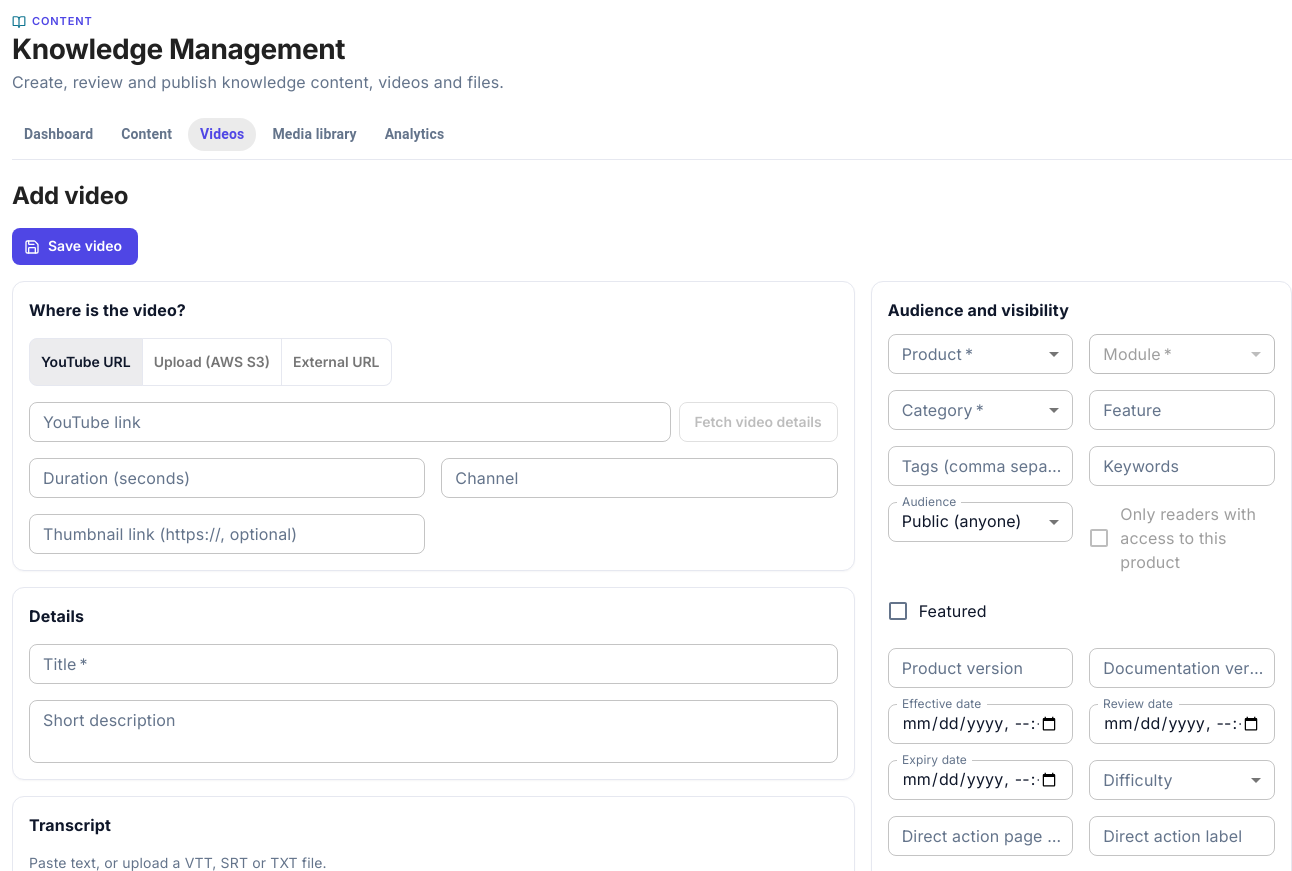
Knowledge Management › fetches YouTube details with the oEmbed fallback and says storage is off for uploads
The image size is (1292, 871).
Type "https://youtu.be/dQw4w9WgXcQ" into the field labelled "YouTube link" at (350, 422), box [29,402,670,442]
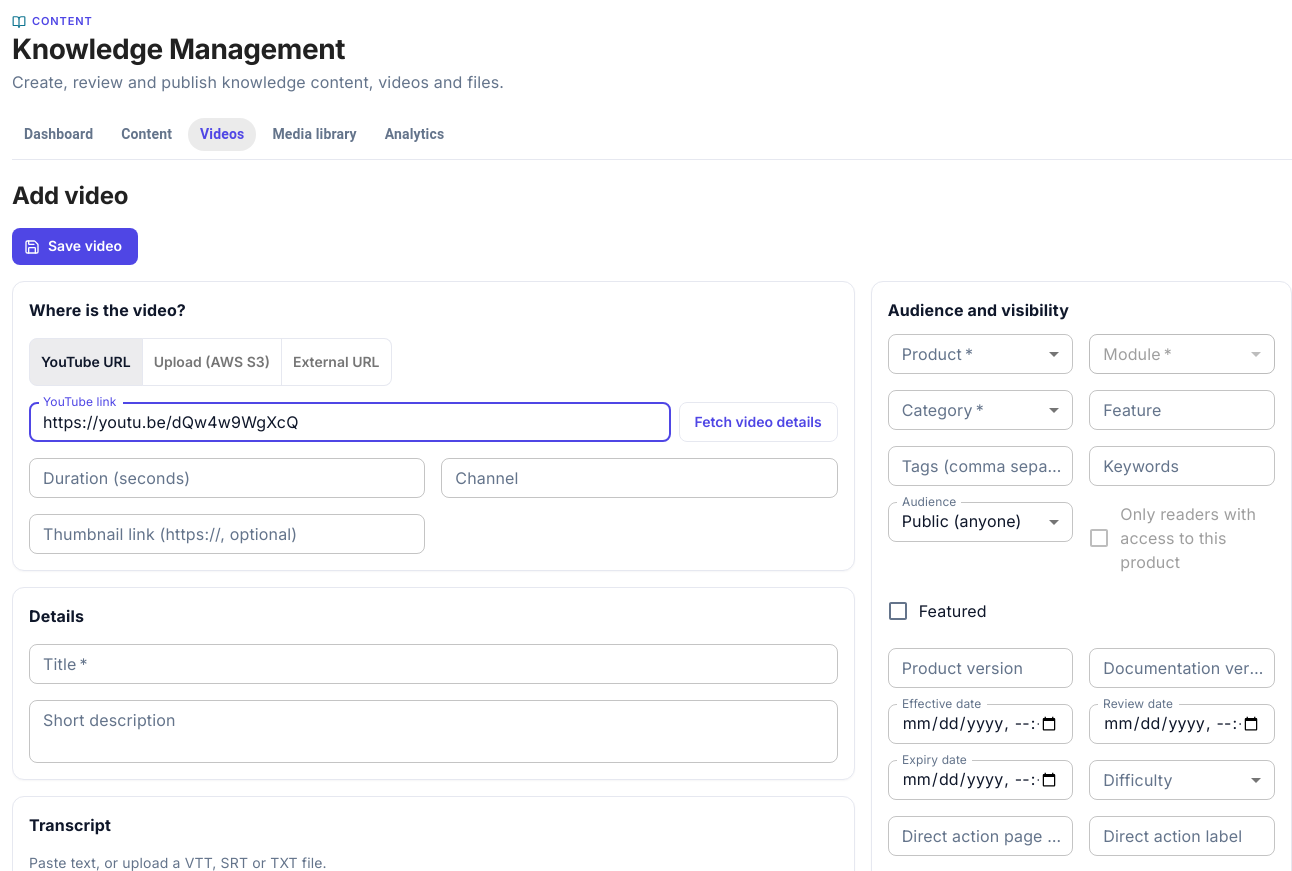
Click the button "Fetch video details" at (758, 422), box [678,402,838,442]
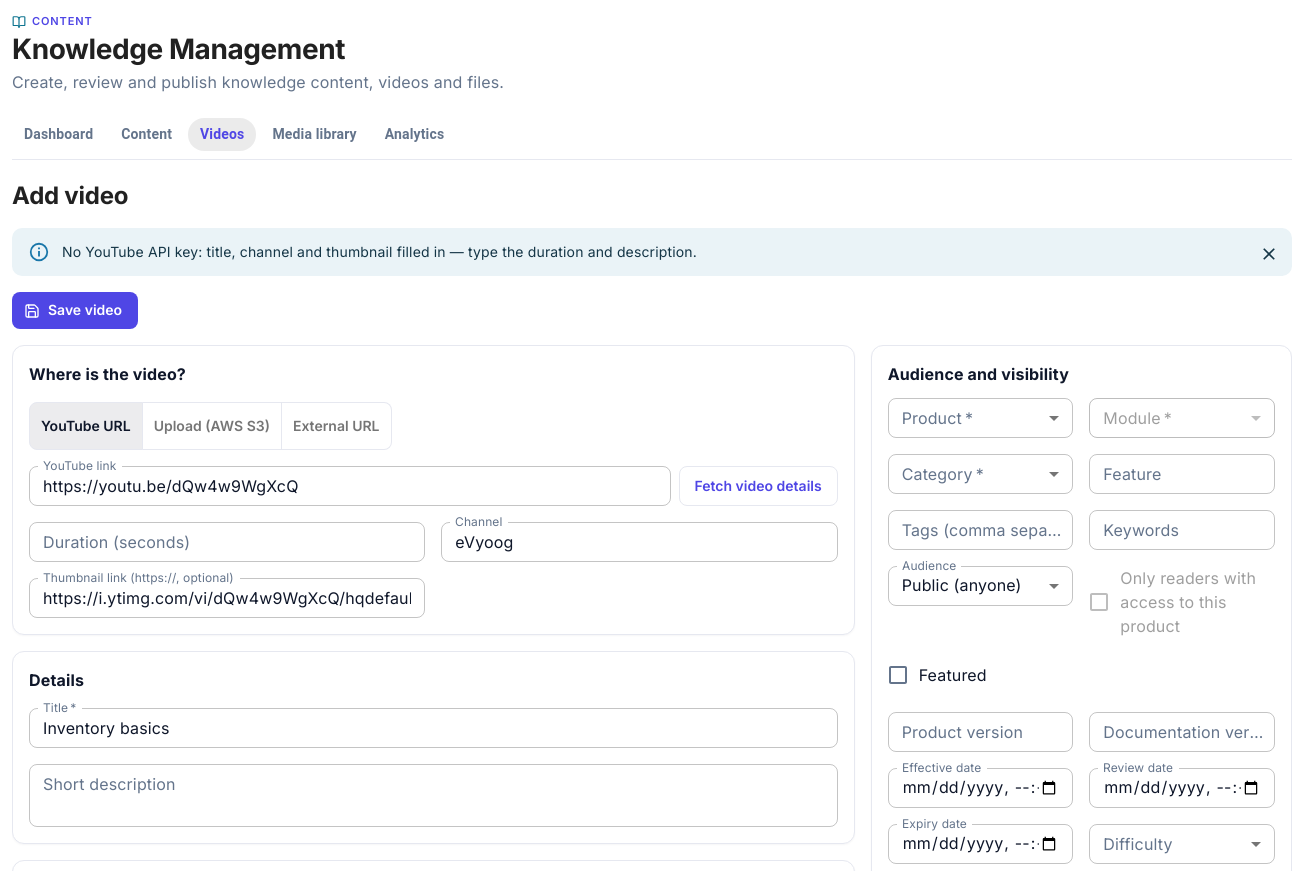
Check: the text "No YouTube API key" is shown, box [62,243,697,260]
Check: the field labelled "Title *" holds "Inventory basics", box [29,708,838,748]
Click the button "Save video" at (75, 311), box [12,292,138,329]
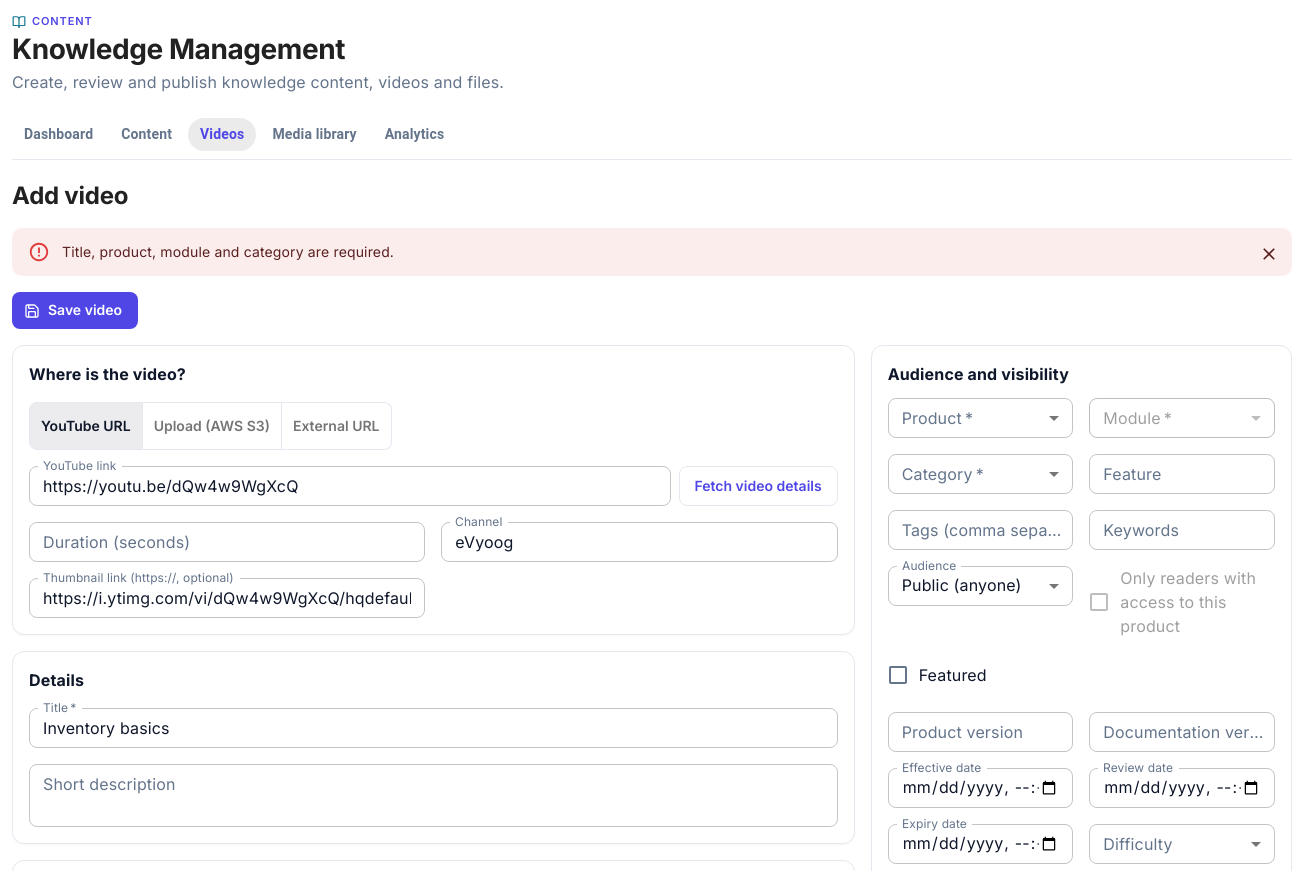
Check: the text "Title, product, module and category are required." is shown, box [62,243,394,260]
Click the button "Upload (AWS S3)" at (212, 426), box [142,402,282,450]
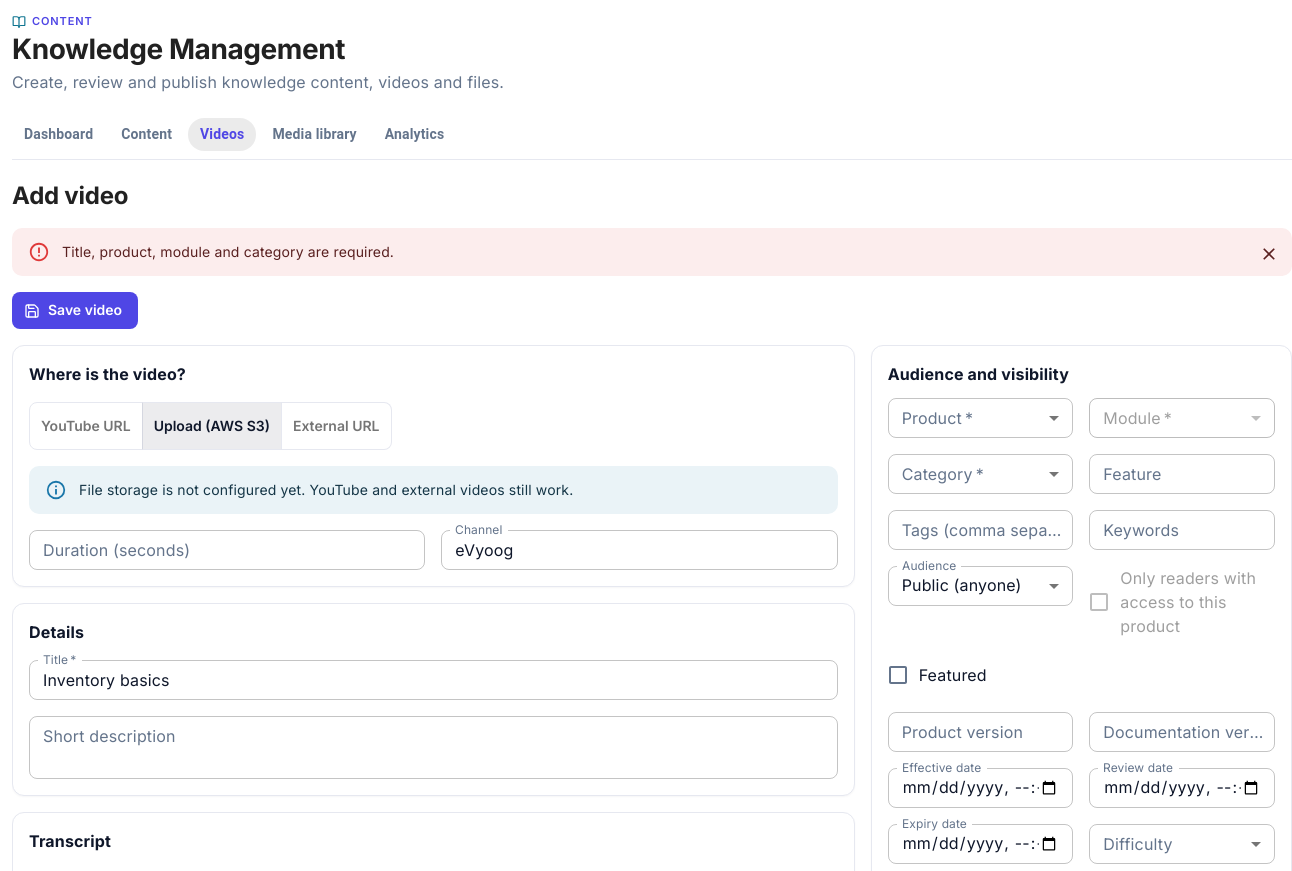
Check: the text "File storage is not configured yet. YouTube and external videos still work." is shown, box [79,481,573,498]
